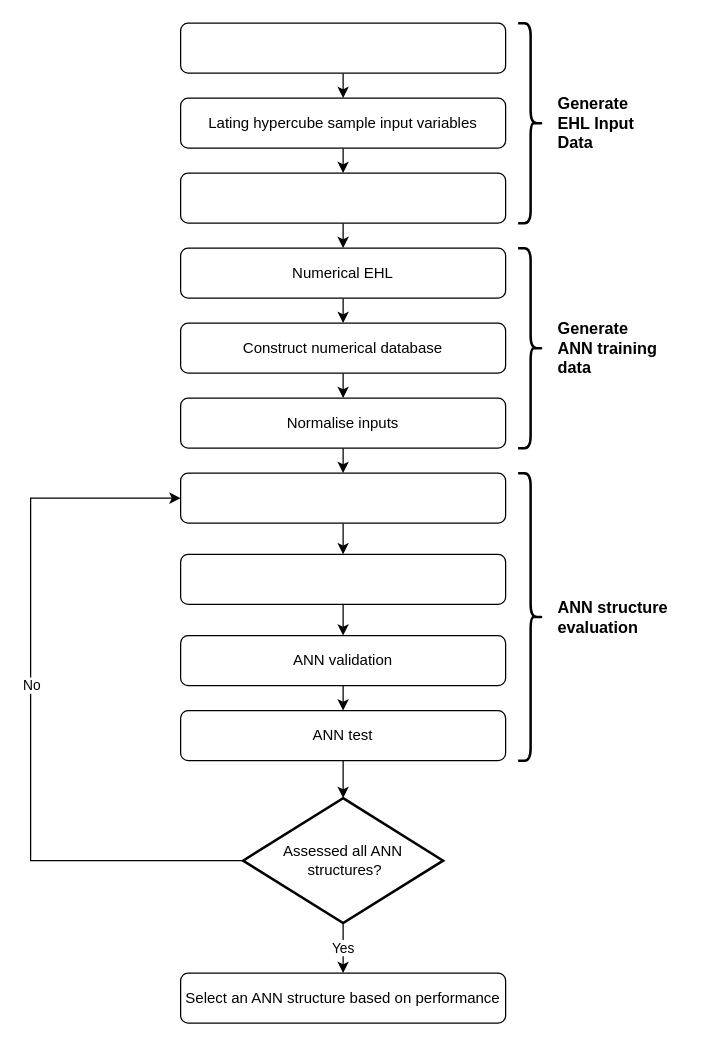
The diagram is 728 pixels wide and 1045 high, and some of its shapes have lost their labels. Here are the shapes that lost their labels. From the top down, the centre of each, then its label:
At point (342, 47): "Define limits of input variables based on common bearing operating conditions".
At point (342, 197): "Constrain inputs to valid operating regions (Greenwood Regime chart)".
At point (342, 497): "Define ANN structure (Hyperparameters and activation function)".
At point (342, 578): "ANN training".
